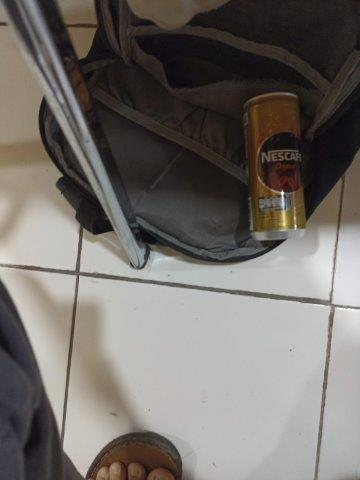kaleng: (243, 92, 307, 242)
